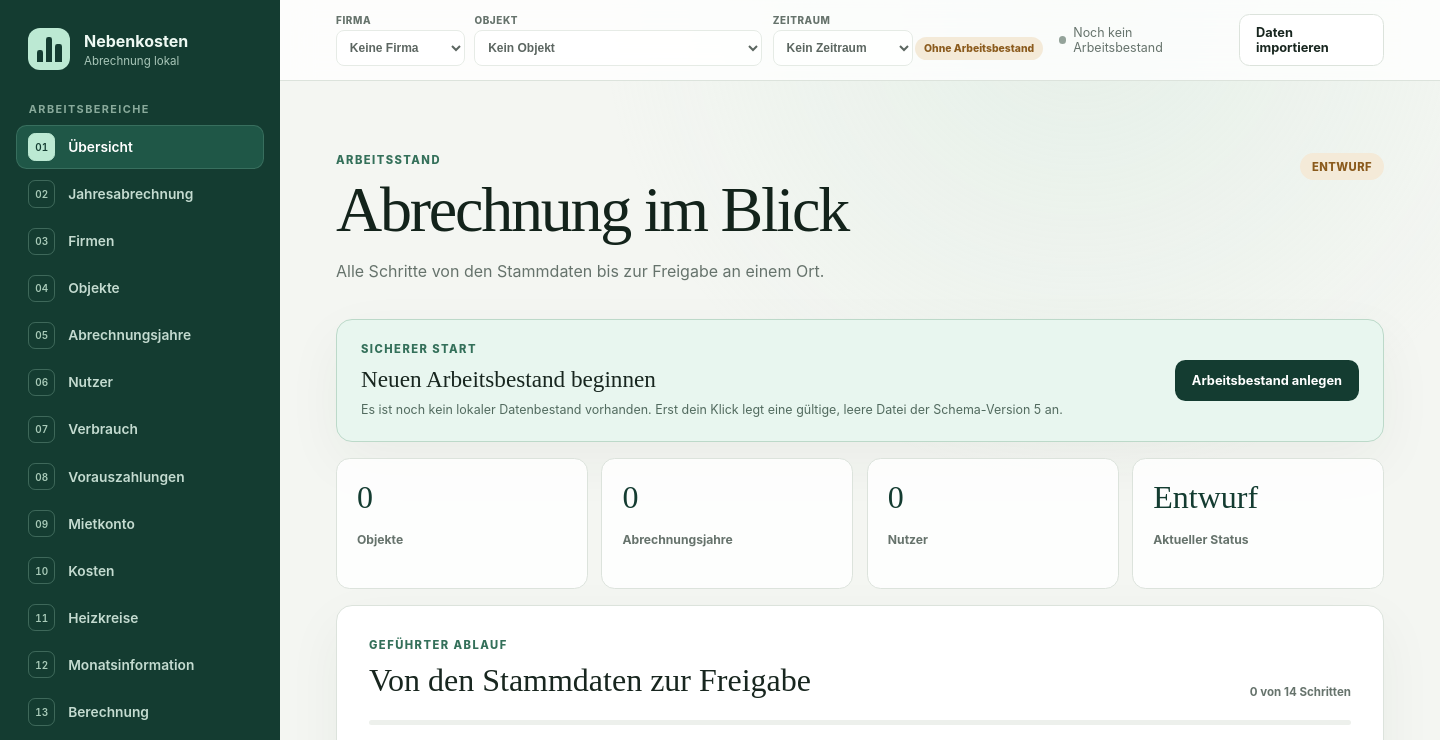
WorkspaceApp › loads an empty local workspace and creates it only on explicit request
expect the text "Noch kein Arbeitsbestand" is shown: met, box [1059, 25, 1163, 55]
Click the button "Arbeitsbestand anlegen" at {"x": 1267, "y": 381}, box [1175, 360, 1359, 401]
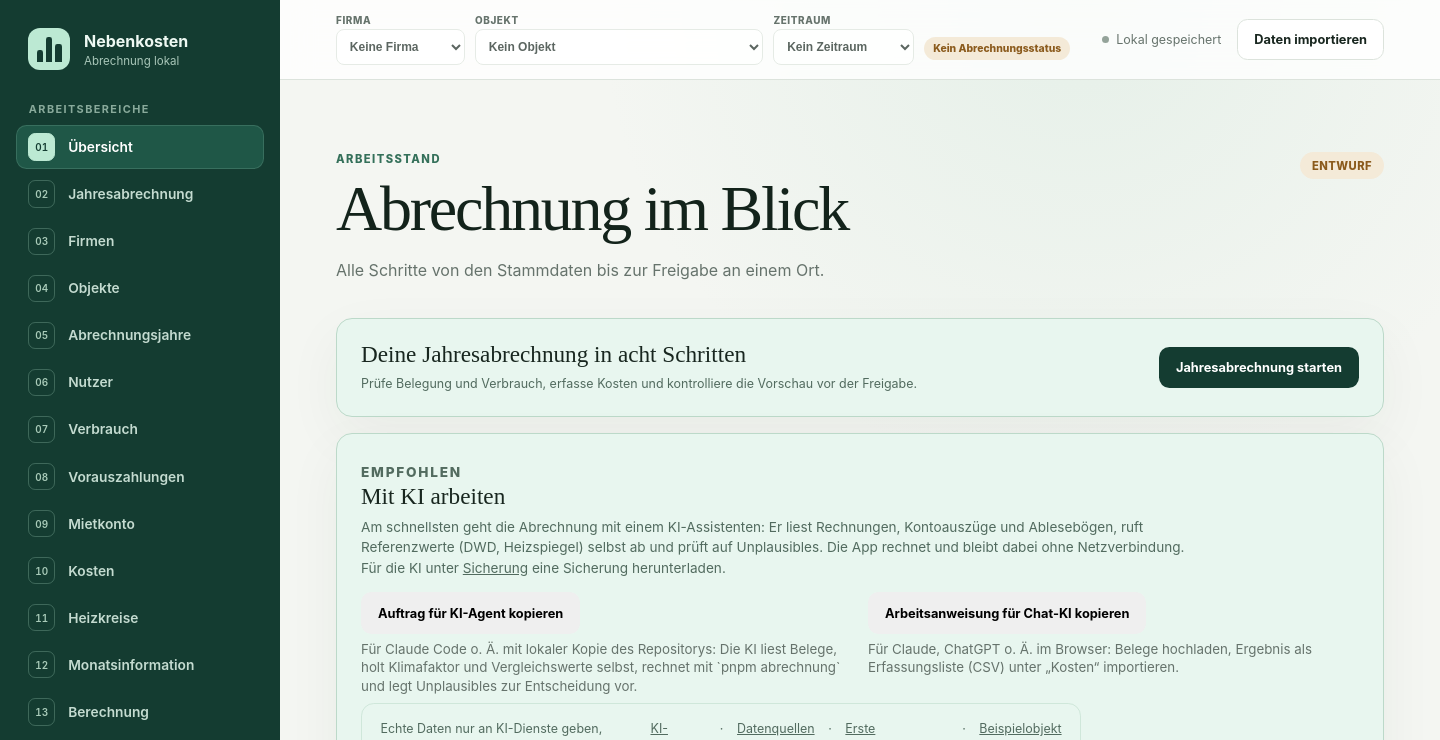
expect the text "Lokal gespeichert" is shown: met, box [1102, 32, 1221, 47]
